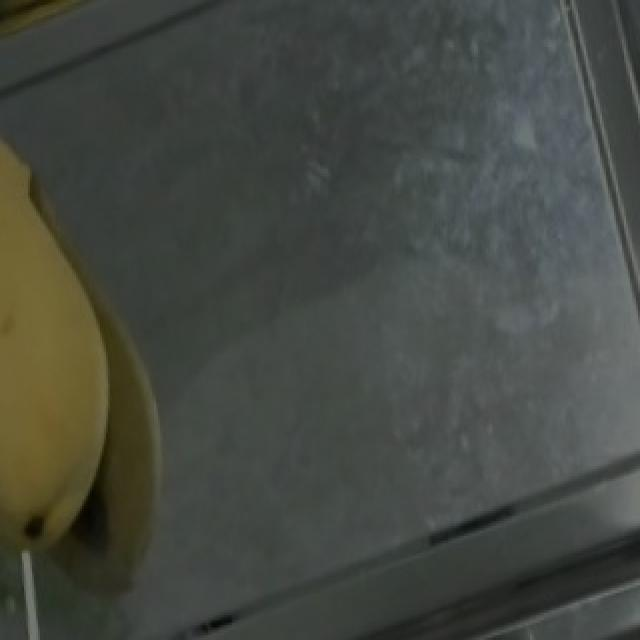fruit: (0, 213, 168, 561)
